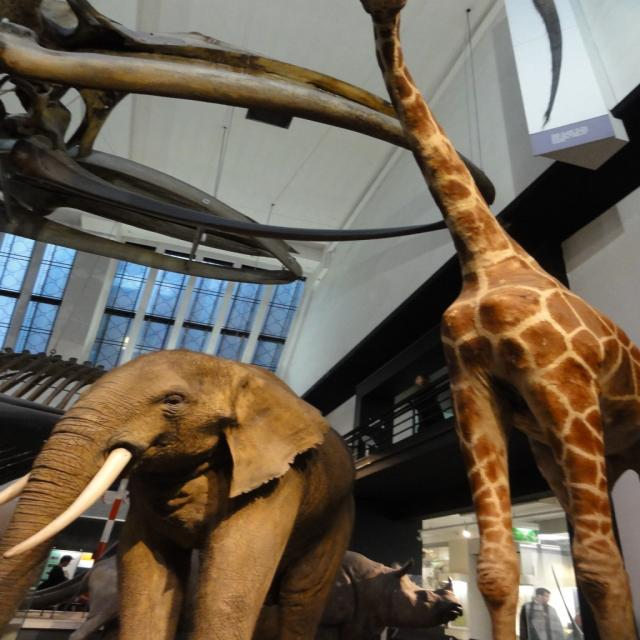elephant: (8, 346, 374, 636)
